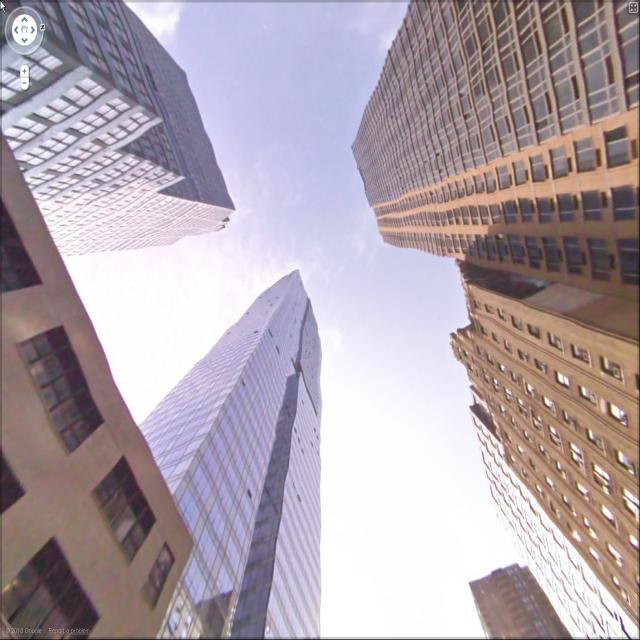b_1: (346, 7, 640, 290), (0, 157, 171, 620), (150, 253, 339, 640), (0, 6, 248, 234), (475, 272, 634, 581)
